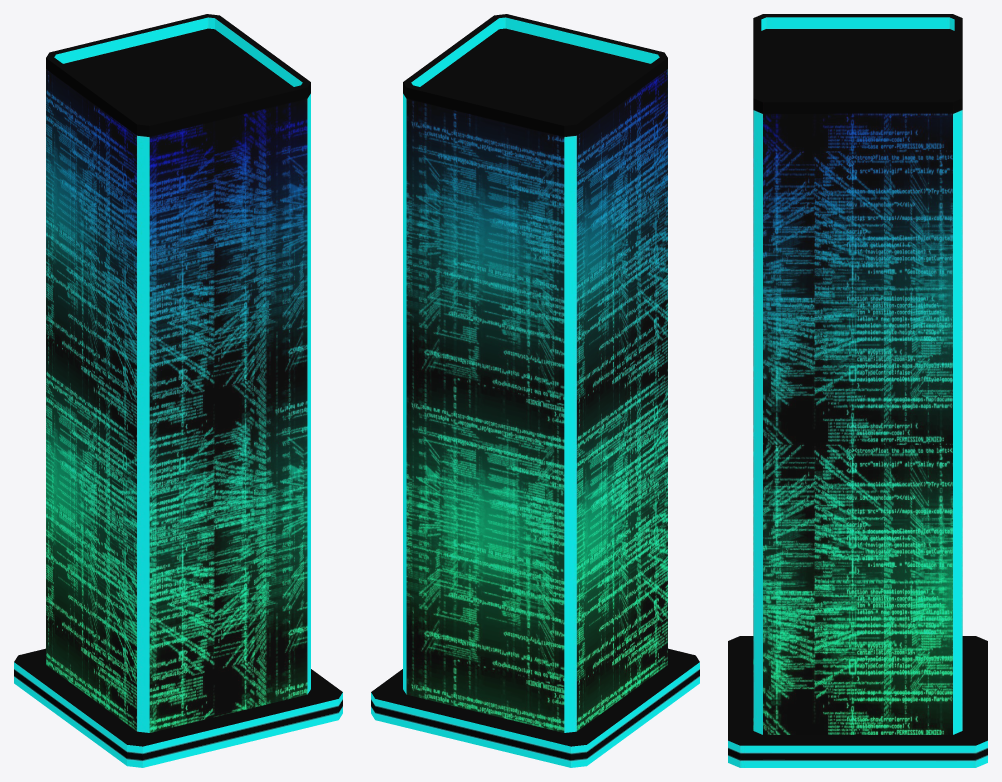
File: Tower_s.gltf
3 views of the same model, side by side, from view 1: azimuth 30°, elevation 25°; view 2: azimuth 150°, elevation 25°; view 3: azimuth 270°, elevation 25° (orthographic). The views are drawn at different scales.
Parts seen in each view (by area): view 1: Cube; view 2: Cube; view 3: Cube.
Boxes of the visible parts, <box> form: Cube: <box>14,14,342,767</box>; Cube: <box>371,14,699,767</box>; Cube: <box>728,14,987,767</box>.
Size of the model in its own units: 74.49 by 207 by 74.49.
3 materials, 3 textured.
